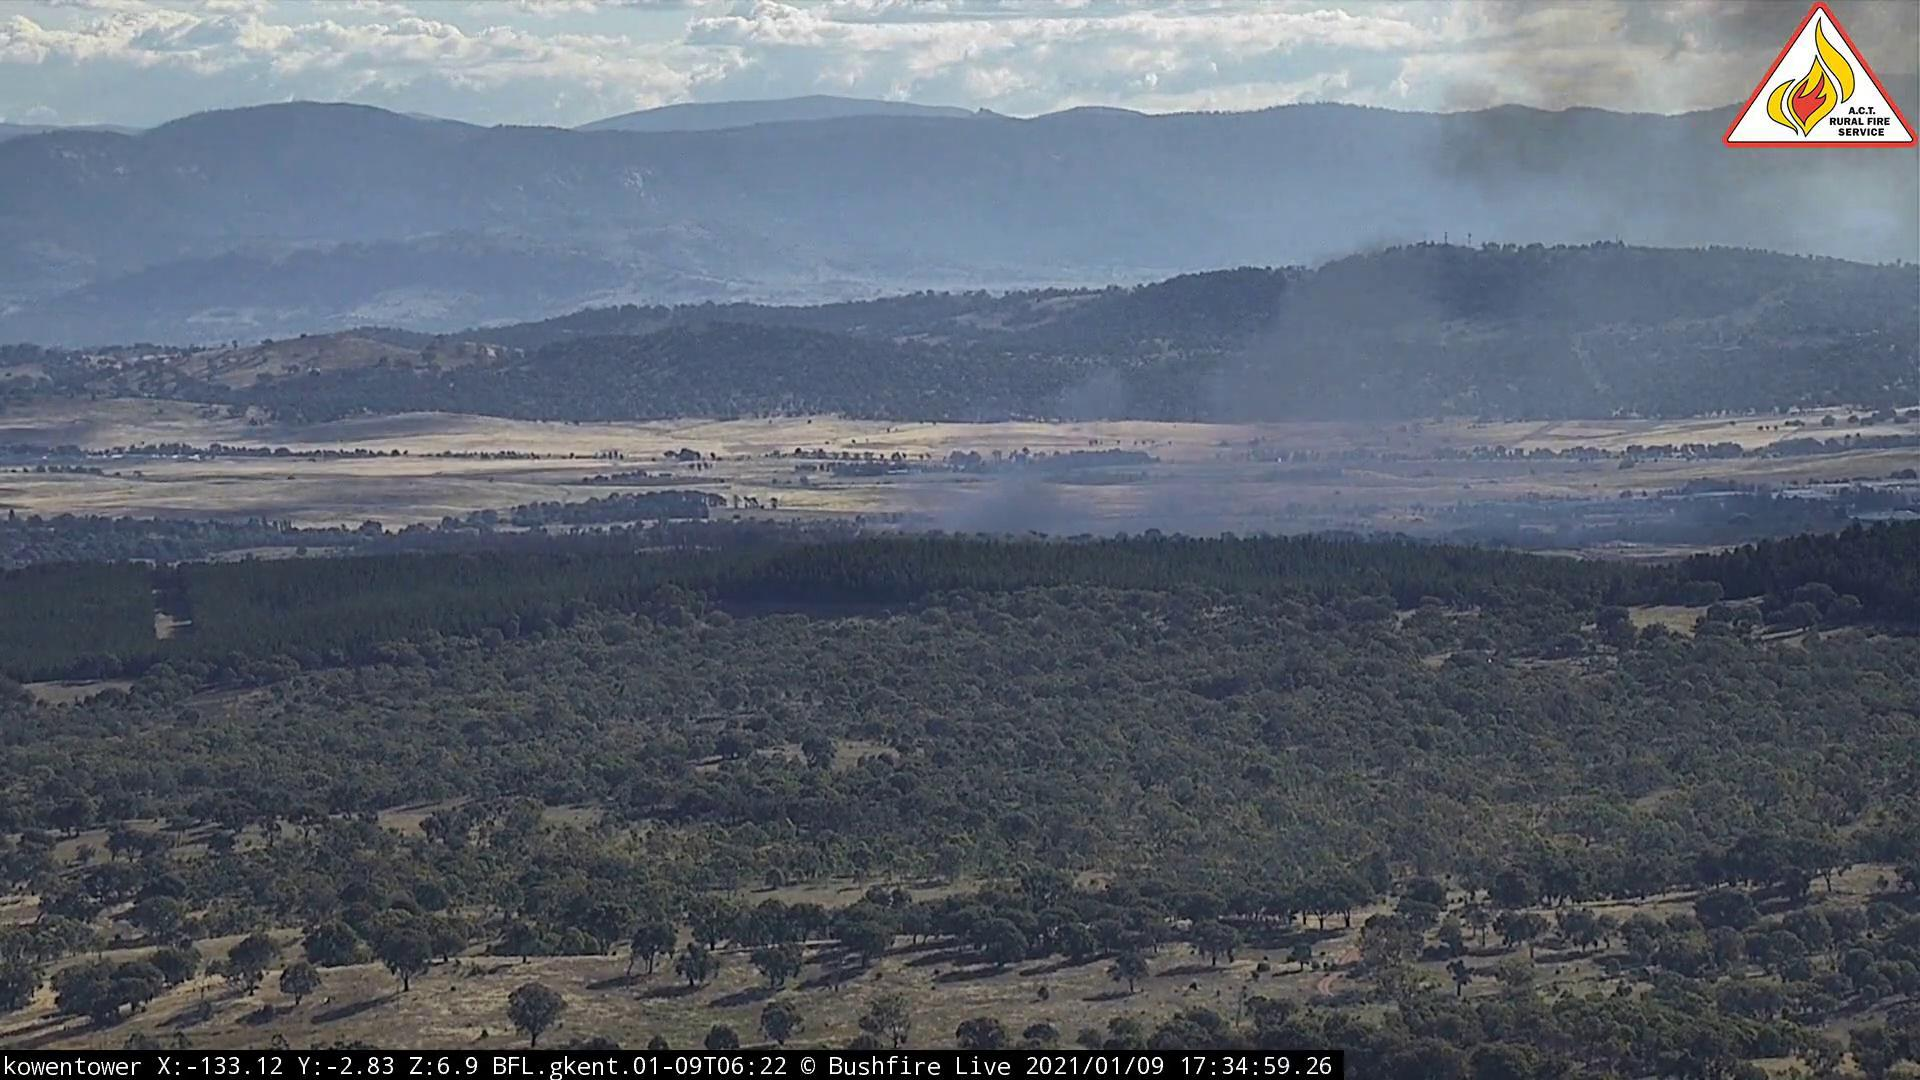Smoke: (884, 61, 1717, 553)
